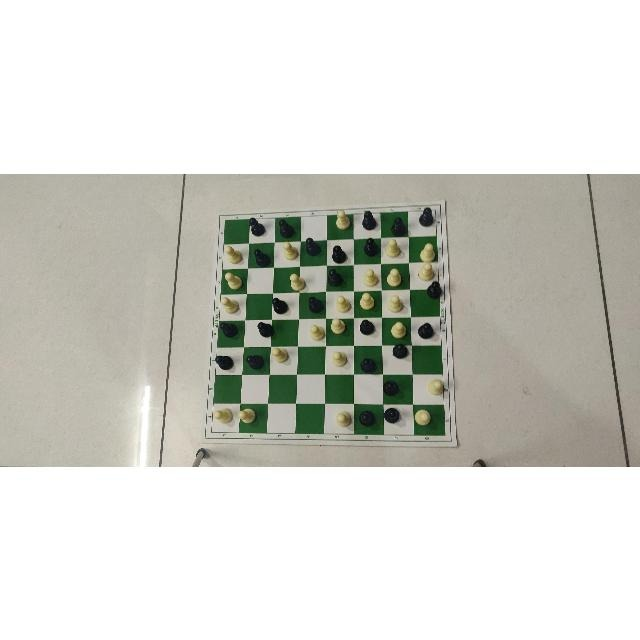black-pawn: (252, 247, 272, 267), (270, 294, 290, 314), (220, 317, 238, 339), (248, 217, 266, 237), (360, 210, 378, 230), (279, 216, 295, 238), (381, 379, 400, 397), (419, 204, 435, 225), (327, 269, 345, 287), (256, 320, 275, 337), (244, 353, 265, 368), (308, 295, 324, 314), (363, 236, 378, 256), (359, 408, 376, 425), (391, 217, 407, 235), (418, 321, 434, 339), (216, 354, 234, 370), (305, 236, 320, 255), (332, 243, 347, 262), (426, 279, 441, 298), (358, 356, 377, 371), (384, 407, 402, 422), (360, 318, 376, 334), (391, 343, 408, 358)
white-pawn: (213, 407, 234, 425), (223, 271, 242, 289), (359, 290, 377, 309), (384, 238, 401, 258), (335, 208, 350, 230), (272, 345, 290, 363), (225, 244, 242, 263), (220, 296, 239, 313), (335, 408, 352, 427), (363, 268, 379, 288), (282, 240, 298, 260), (391, 320, 407, 340), (418, 261, 436, 278), (309, 323, 326, 341), (414, 408, 432, 425), (428, 378, 445, 396), (331, 348, 347, 367), (388, 293, 404, 311), (238, 408, 256, 424), (419, 241, 434, 260), (289, 273, 306, 289), (385, 268, 400, 286), (334, 294, 349, 312), (332, 317, 347, 332)
